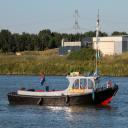tugboat: (7, 9, 120, 111)
